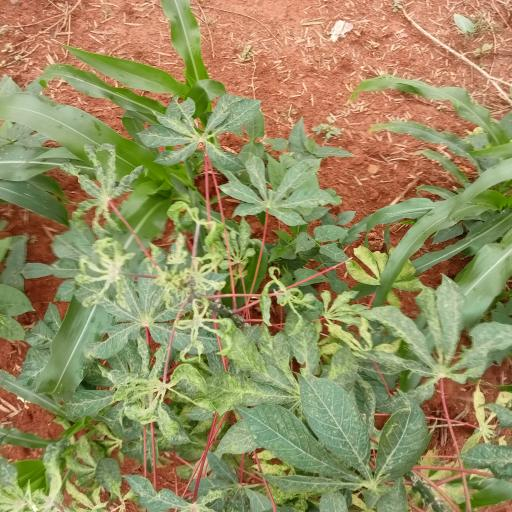Cassava_Mosaic: (239, 371, 425, 506), (371, 280, 512, 382), (88, 278, 217, 354), (142, 98, 264, 172), (228, 155, 326, 222)
